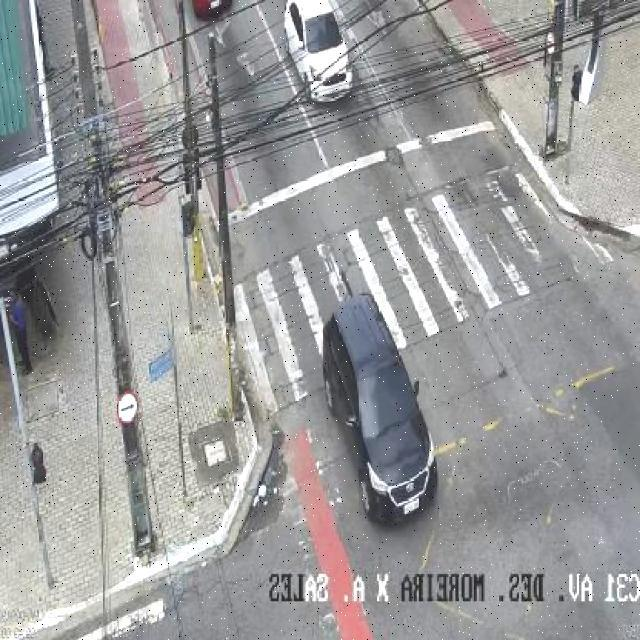Car: (322, 294, 443, 523), (275, 0, 356, 103), (187, 0, 230, 25)
